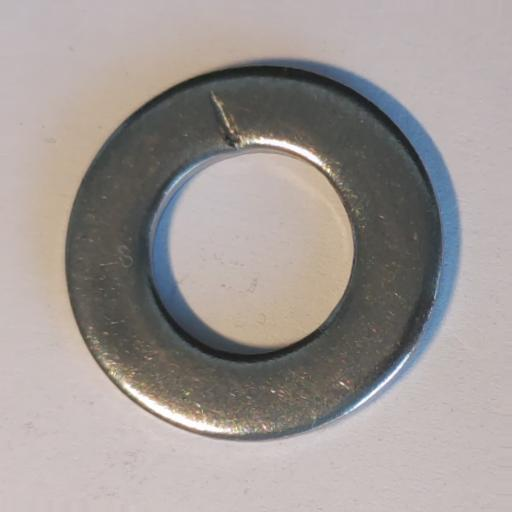scratch: (208, 89, 243, 145)
